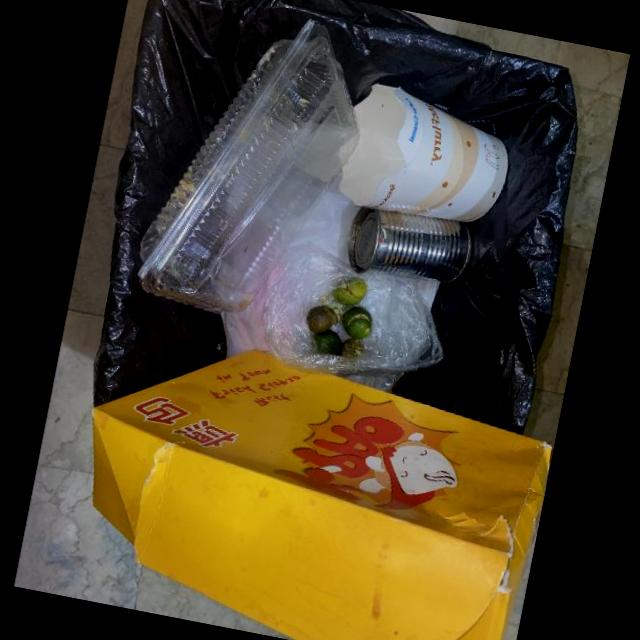carton: (91, 348, 554, 640), (339, 83, 509, 222)
hop_nhua: (137, 17, 360, 313)
nhom: (348, 207, 473, 283)
thuc_an_thua: (307, 305, 345, 333), (342, 307, 373, 340), (332, 277, 367, 306), (314, 329, 343, 355), (342, 338, 364, 358), (319, 295, 327, 303)
tui_ni_long: (263, 243, 443, 383)
